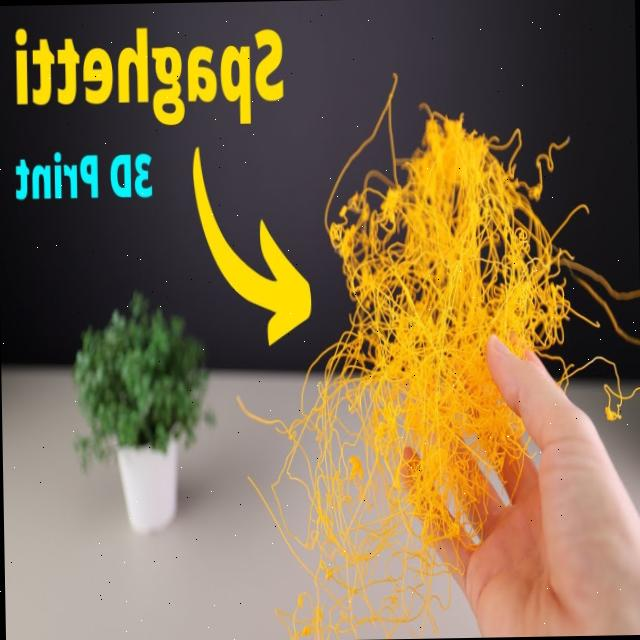spaghetti: (276, 59, 617, 640)
